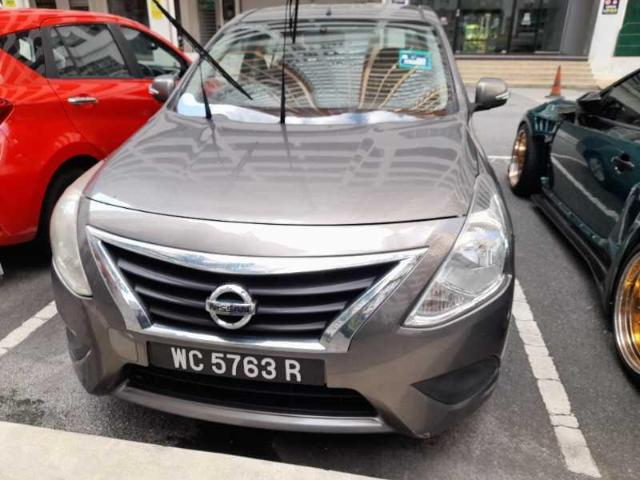License_Plate: (147, 341, 326, 387)
car: (49, 2, 517, 442)
